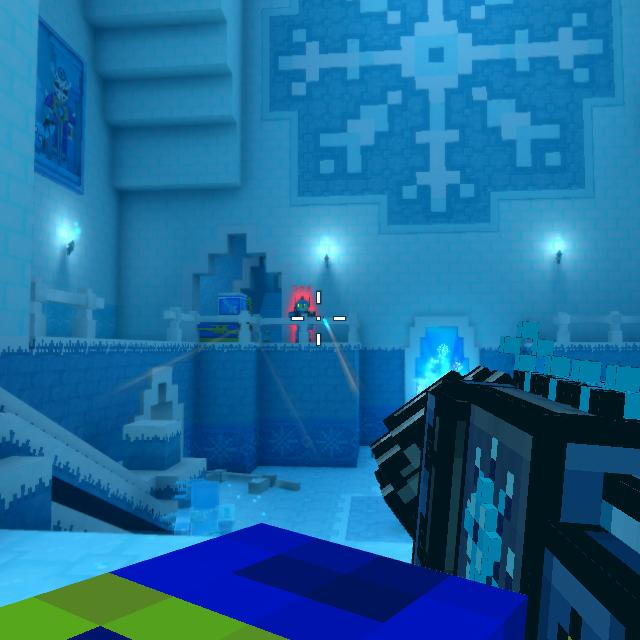Enemy: (288, 296, 317, 343)
